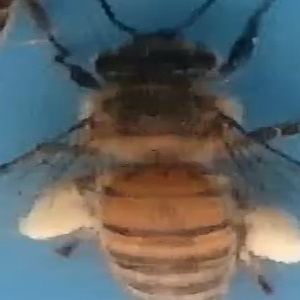bee: (15, 14, 300, 300)
